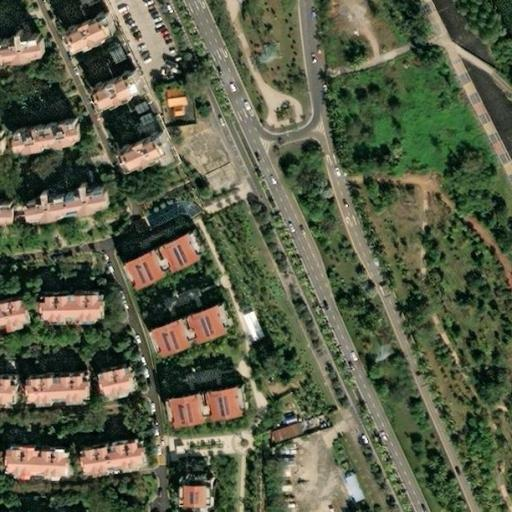building: (152, 277, 218, 317), (39, 188, 121, 218), (80, 433, 148, 467), (26, 119, 96, 149), (124, 128, 173, 167), (98, 66, 144, 105), (72, 9, 120, 46), (25, 367, 90, 394), (170, 227, 211, 269), (159, 311, 202, 351), (41, 287, 106, 313), (133, 245, 175, 285), (196, 298, 238, 338), (8, 441, 66, 469), (171, 386, 216, 422), (123, 95, 161, 137), (99, 357, 139, 395), (212, 380, 252, 415), (185, 483, 216, 512), (102, 39, 129, 69), (264, 421, 297, 444), (237, 313, 257, 341), (338, 476, 357, 502), (277, 414, 290, 425)
